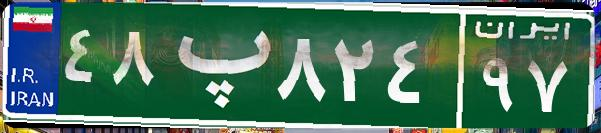2: (330, 28, 385, 110)
4: (385, 28, 445, 110), (57, 26, 110, 107)
7: (525, 38, 570, 115)
8: (273, 28, 330, 110), (110, 28, 158, 105)
9: (475, 38, 525, 113)
پ: (158, 15, 273, 115)
